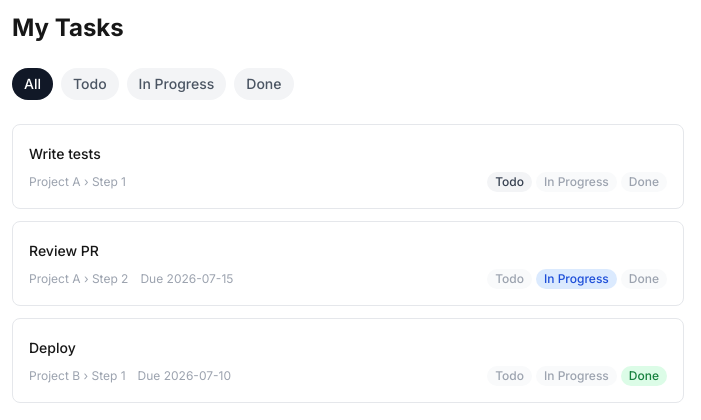
Test: MyTaskList › filters to only done tasks when Done tab is clicked
Click the button with test id "filter-done".
click(264, 84)  # box [234, 68, 294, 100]
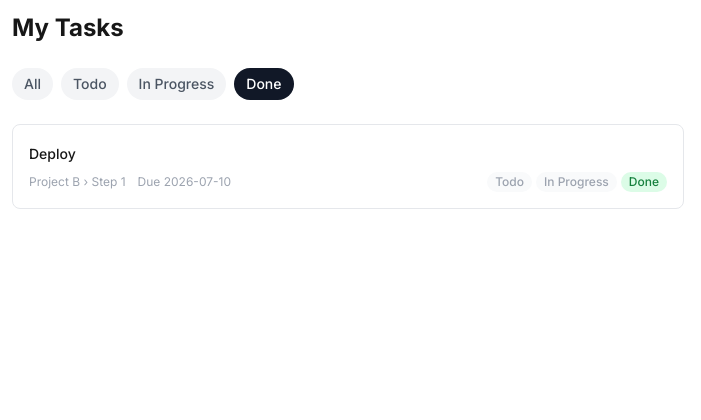
Expected: the button "Deploy" is shown, [29, 144, 667, 164]
Result: the button "Write tests" is gone
Result: the button "Review PR" is gone
